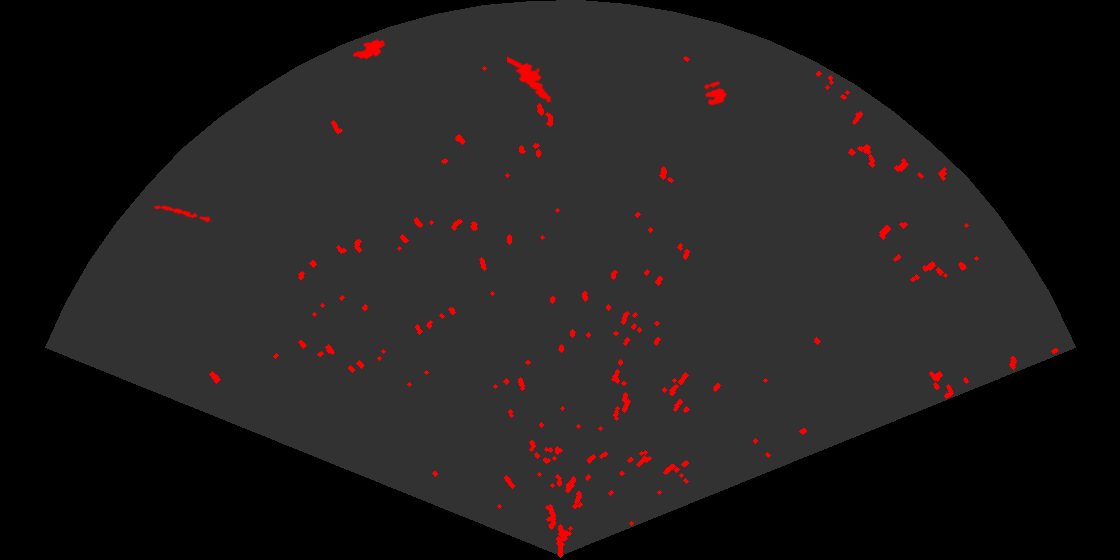AUV: (351, 37, 387, 61)
ball: (702, 79, 729, 107)
chain: (152, 204, 214, 224)
frogman: (507, 55, 560, 106)
